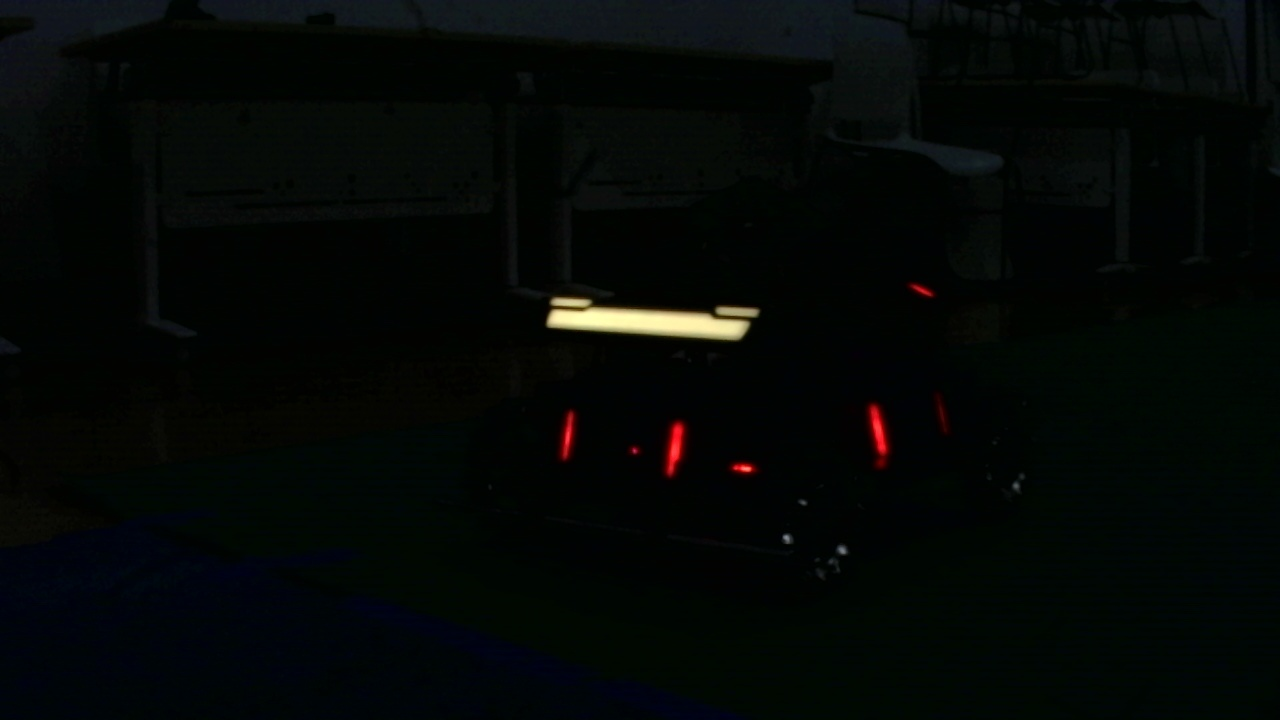lamp: (863, 396, 891, 461), (662, 408, 687, 478), (551, 409, 581, 466)
notpair1: (662, 399, 891, 476)
pair1: (555, 410, 687, 481)
